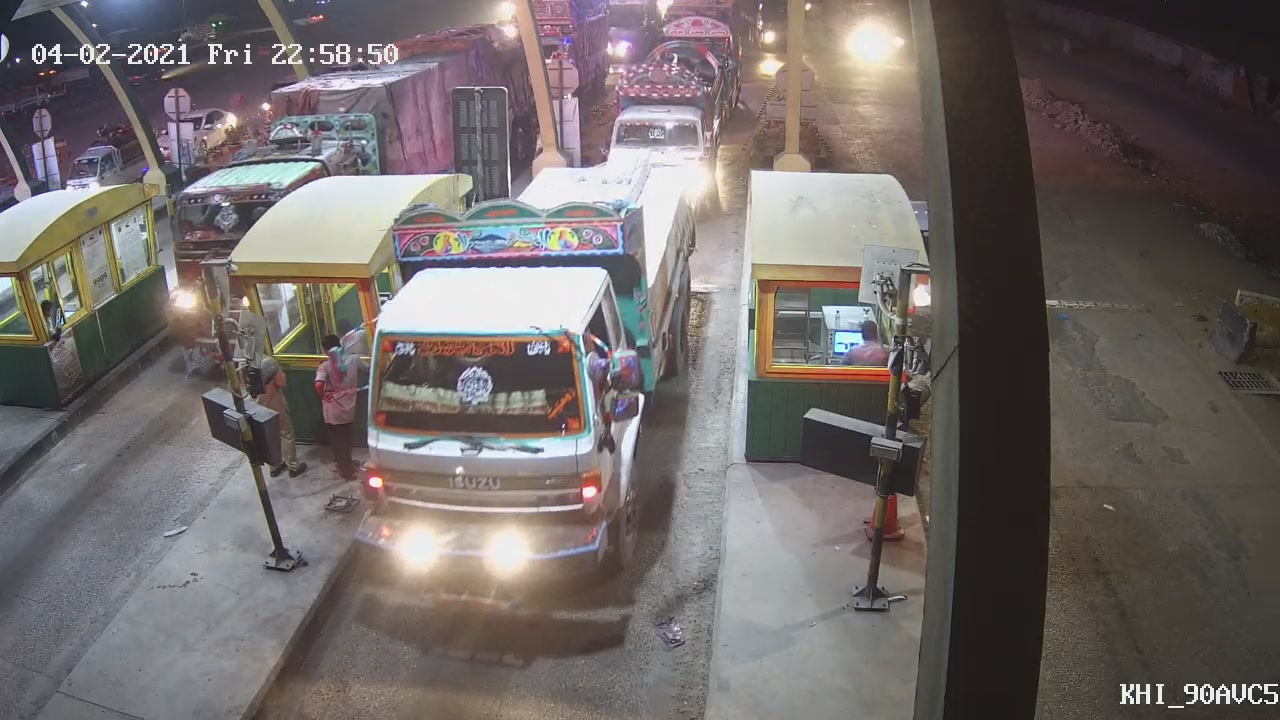F6: (351, 208, 657, 598)
